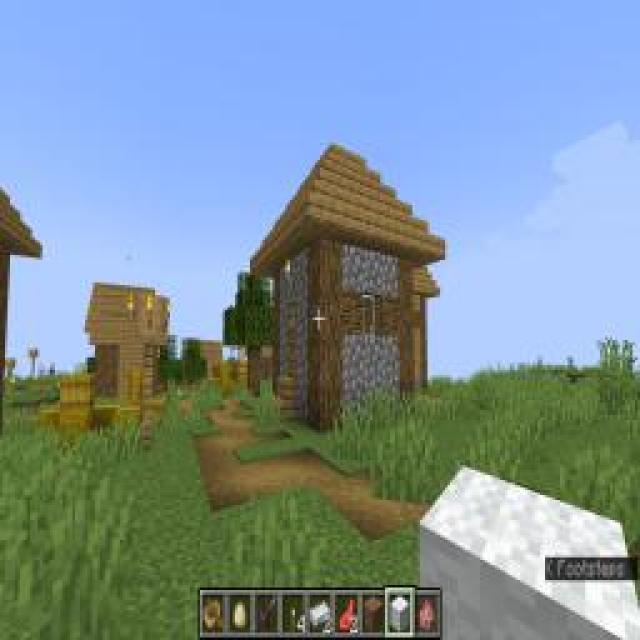Villager: (245, 136, 450, 434)
